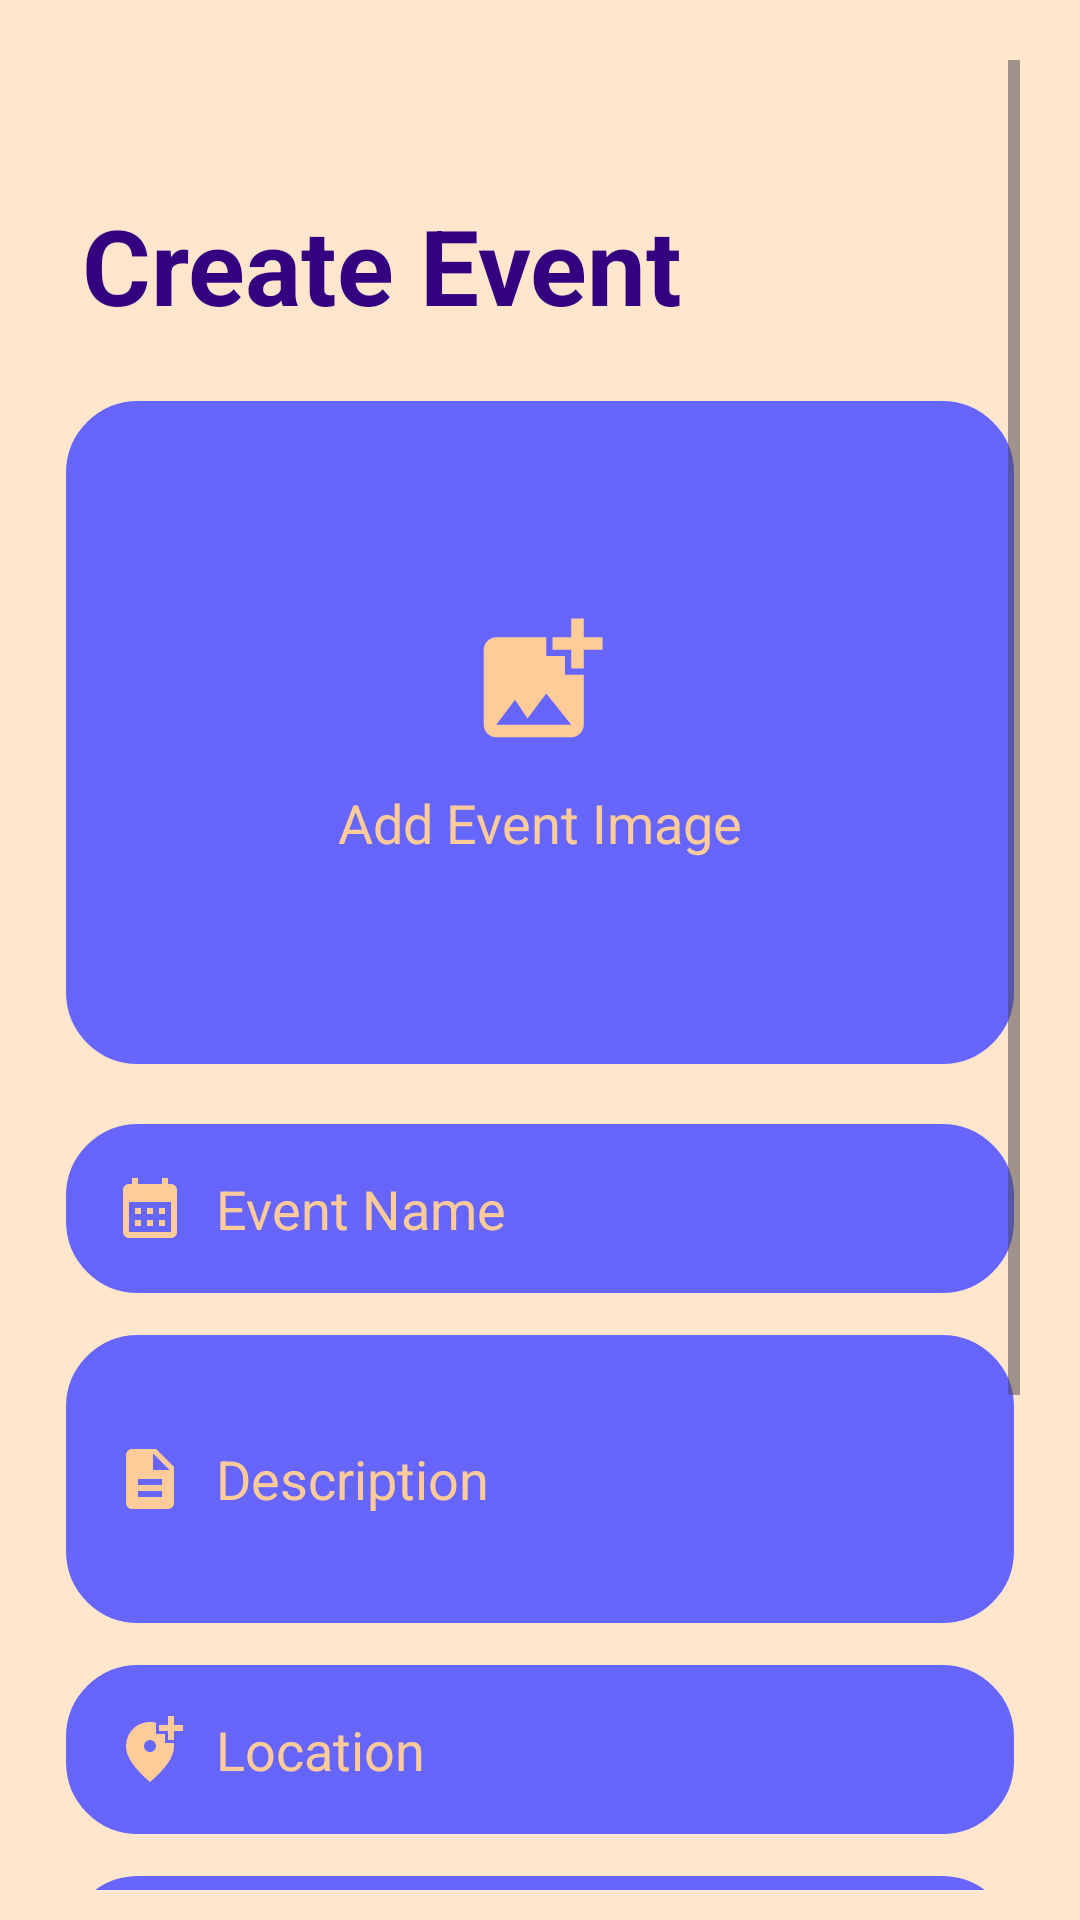

Screen size 1080 x 1920. Icon name, then its center in pixels as [x,y]:
add photo alternate: [543,678]
calendar month: [150,1208]
